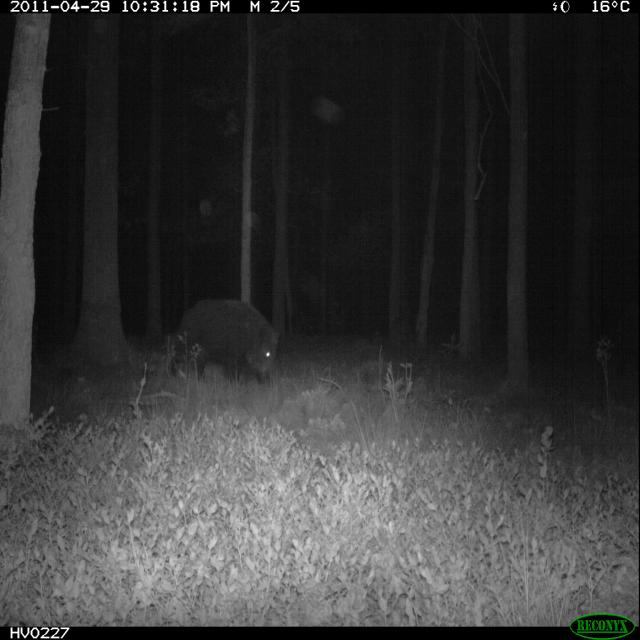boar: (148, 278, 292, 406)
